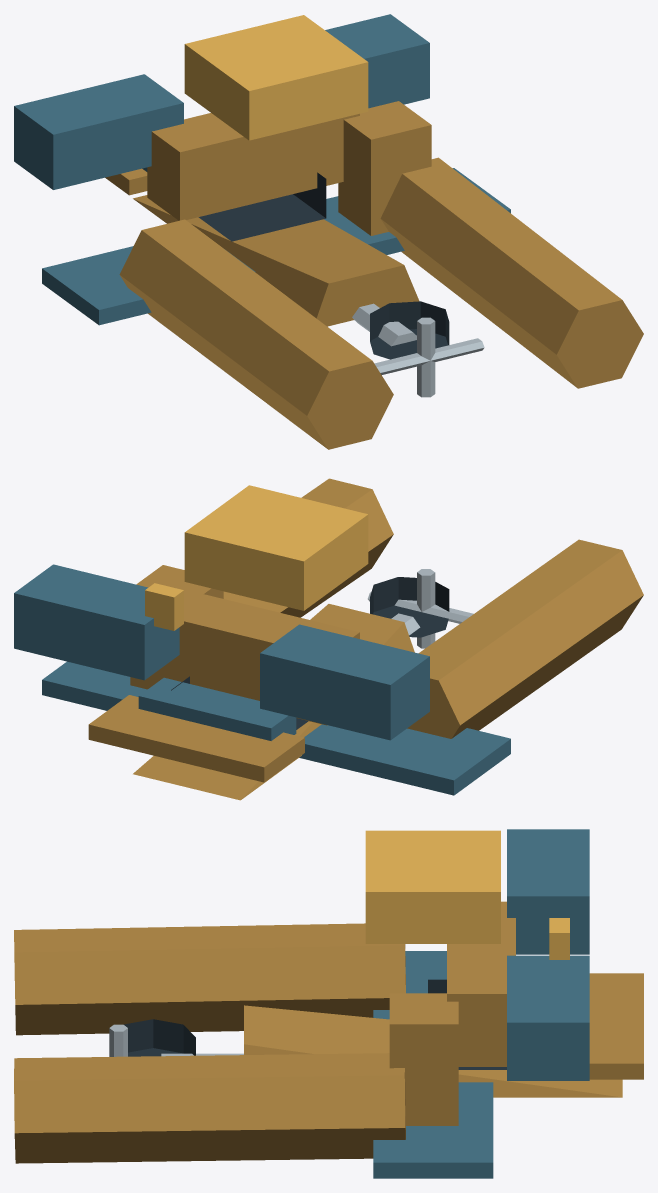
Rendered from aerial-battleship.obj.
3 views of the same model, one above another, from view 1: azimuth 30°, elevation 25°; view 2: azimuth 150°, elevation 25°; view 3: azimuth 270°, elevation 25° (orthographic). The views are drawn at different scales.
Visible parts, largest first — view 1: air; view 2: air; view 3: air.
Boxes of the visible parts, x1,y1,x2,y2 form: air: [14, 14, 643, 449]; air: [14, 478, 643, 800]; air: [14, 829, 643, 1178].
Bounding box in the file's own units: 2.18 × 1.17 × 2.74.
